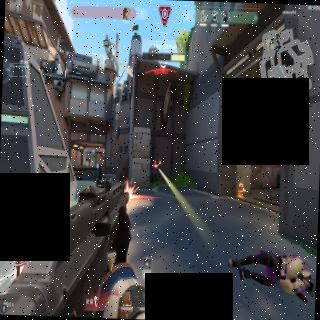ENEMY-BODY: (151, 160, 158, 186)
ENEMY-HEAD: (154, 160, 156, 166)
